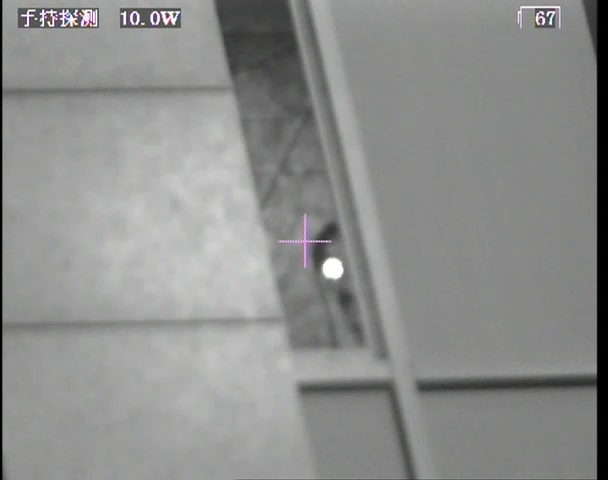my: (319, 253, 344, 280)
